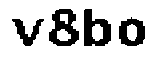8: (45, 4, 79, 51)
b: (80, 7, 112, 49)
o: (118, 17, 147, 50)
v: (9, 17, 43, 49)
